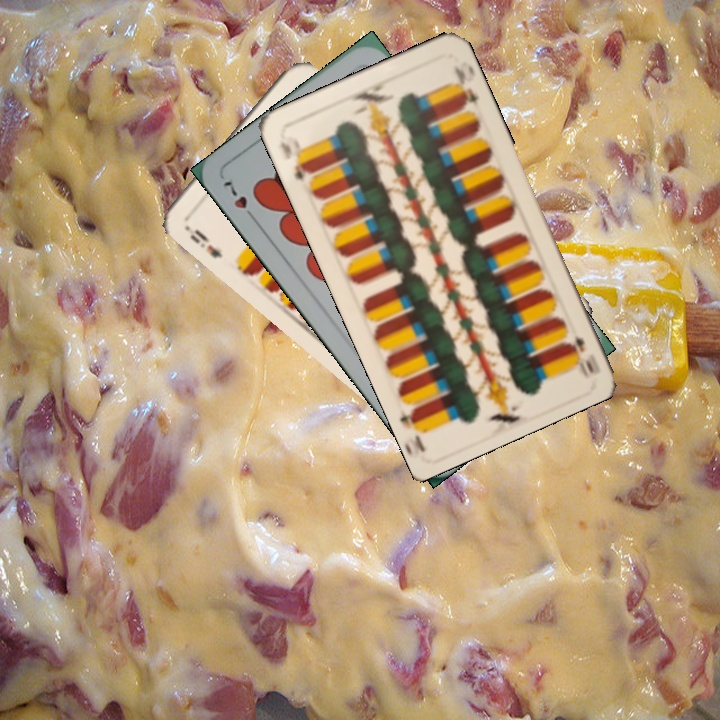E10: (275, 131, 315, 184), (565, 333, 597, 380)
E9: (186, 225, 225, 261)
H7: (219, 176, 260, 225)
